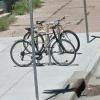Bicycle: (10, 15, 81, 72)
